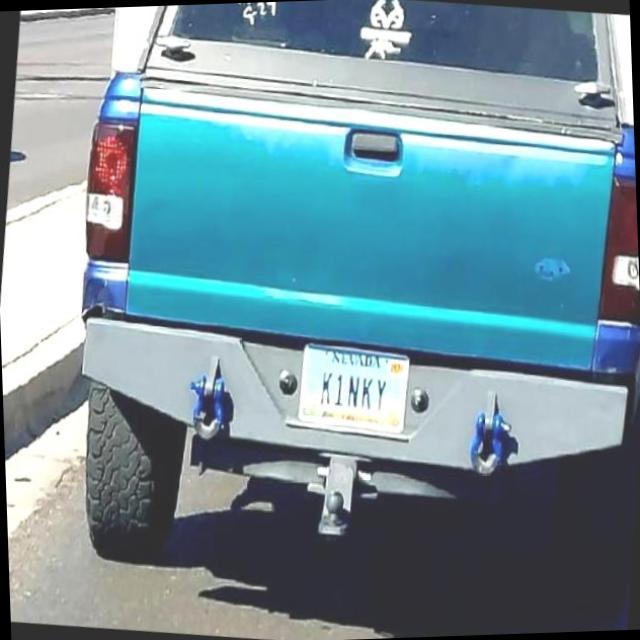LicensePlate: (296, 342, 410, 435)
